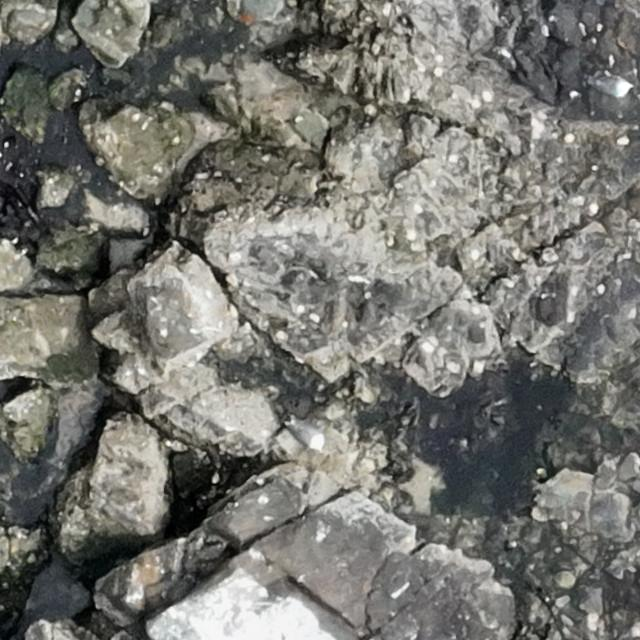umineko: (290, 420, 324, 448), (596, 74, 626, 94)
